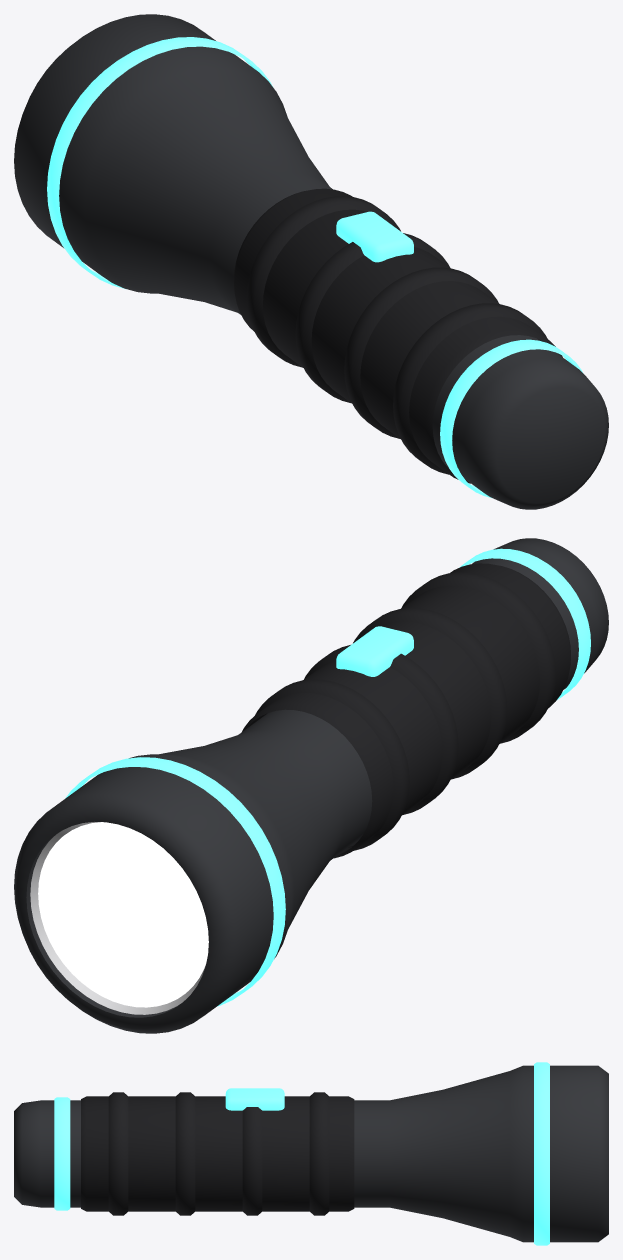
Rendered from torch.glb.
3 views of the same model, one above another, from view 1: azimuth 30°, elevation 25°; view 2: azimuth 150°, elevation 25°; view 3: azimuth 270°, elevation 25° (orthographic). The views are drawn at different scales.
Parts seen in each view (by area): view 1: torch_body, torch_grip, torch_trim, ridge, ridge.001, ridge.003, ridge.002, torch_trim2, switch; view 2: torch_body, torch_grip, lens, torch_trim, ridge.003, ridge, ridge.001, ridge.002, torch_trim2, reflector, switch; view 3: torch_body, torch_grip, torch_trim, ridge, ridge.001, ridge.003, ridge.002, torch_trim2, switch.
Part boxes in pixels (<box>): torch_body: <box>14,14,608,509</box>; torch_grip: <box>233,188,562,483</box>; torch_trim: <box>47,37,273,289</box>; ridge: <box>393,303,547,474</box>; ridge.001: <box>344,267,498,438</box>; ridge.003: <box>246,196,400,367</box>; ridge.002: <box>295,233,449,402</box>; torch_trim2: <box>440,339,583,498</box>; switch: <box>336,211,413,262</box>; torch_body: <box>14,538,608,1033</box>; torch_grip: <box>242,563,570,858</box>; lens: <box>38,822,208,1007</box>; torch_trim: <box>65,757,285,1006</box>; ridge.003: <box>255,679,409,850</box>; ridge: <box>401,572,556,743</box>; ridge.001: <box>353,608,507,779</box>; ridge.002: <box>304,645,458,814</box>; torch_trim2: <box>459,548,590,699</box>; reflector: <box>30,822,205,1014</box>; switch: <box>336,626,413,676</box>; torch_body: <box>14,1065,608,1242</box>; torch_grip: <box>81,1096,354,1211</box>; torch_trim: <box>534,1062,549,1245</box>; ridge: <box>108,1092,128,1215</box>; ridge.001: <box>175,1092,195,1215</box>; ridge.003: <box>309,1092,329,1215</box>; ridge.002: <box>242,1107,262,1215</box>; torch_trim2: <box>54,1097,70,1210</box>; switch: <box>225,1088,284,1110</box>.
Bounding box in the file's own units: 0.0684 × 0.0684 × 0.222.
